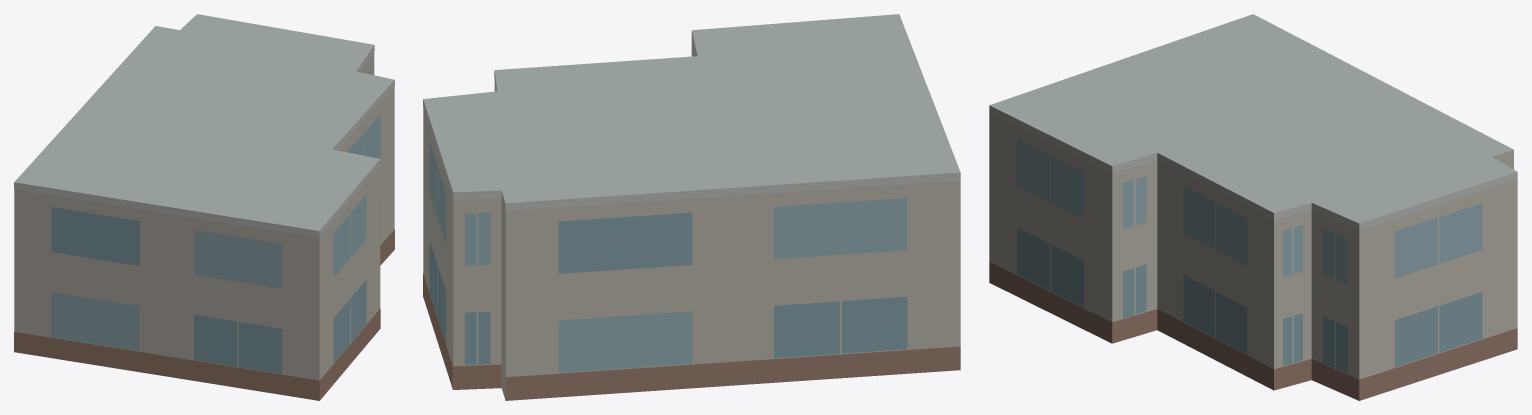
Rendered from survey-upis-32974739.glb.
3 renders of one model, left to right at view 1: azimuth 30°, elevation 25°; view 2: azimuth 150°, elevation 25°; view 3: azimuth 270°, elevation 25°, orthographic. The views are drawn at different scales.
Parts seen in each view (by area): view 1: survey-upis-32974739.tmp; view 2: survey-upis-32974739.tmp; view 3: survey-upis-32974739.tmp.
Boxes of the visible parts, bbox=[...] form: survey-upis-32974739.tmp: bbox=[14, 14, 394, 400]; survey-upis-32974739.tmp: bbox=[423, 14, 960, 400]; survey-upis-32974739.tmp: bbox=[989, 14, 1517, 400].
Bounding box in the file's own units: 15.46 × 6.1 × 16.48.
